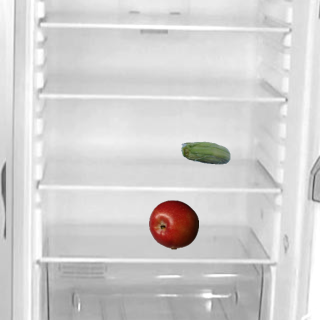Apple Braeburn: (148, 199, 198, 249)
Corn Husk: (180, 129, 230, 179)
